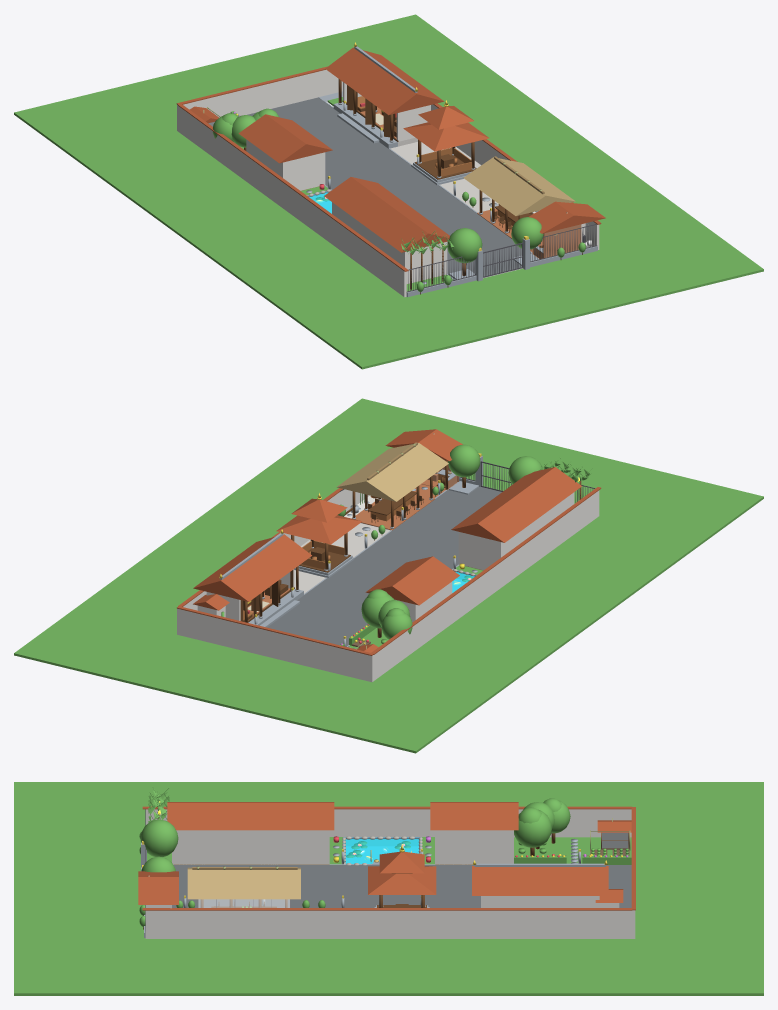
Rendered from khu_nha_dong_ho.glb.
3 renders of one model, top to bottom at view 1: azimuth 30°, elevation 25°; view 2: azimuth 150°, elevation 25°; view 3: azimuth 270°, elevation 25°, orthographic. The views are drawn at different scales.
Parts seen in each view (by area): view 1: Co_Ngoai_Nam, Co_Ngoai_Tay, Co_Ngoai_Bac, Co_Ngoai_Dong, DuongChinh_8m, TuongRao_Trai, Mai_Nha3Gian, TuongRao_Sau, Mai_NhaAn_MaiLa, Mai_NhaKhach3_6x4, Mai_NhaKhach1_6x4, Mai_NhaKhach2_6x4 (+13 smaller); view 2: Co_Ngoai_Bac, Co_Ngoai_Tay, Co_Ngoai_Nam, Co_Ngoai_Dong, DuongChinh_8m, TuongRao_Trai, TuongRao_Sau, Mai_Nha3Gian, Mai_NhaAn_MaiLa, Mai_NhaKhach3_6x4, Mai_NhaKhach2_6x4, Mai_NhaKhach1_6x4 (+10 smaller); view 3: Co_Ngoai_Dong, Co_Ngoai_Bac, Co_Ngoai_Nam, TuongRao_Phai, Co_Ngoai_Tay, DuongChinh_8m, TuongRao_Trai, Mai_Nha3Gian, Mai_NhaAn_MaiLa, Mai_NhaKhach3_6x4, Mai_NhaKhach1_6x4, Mai_NhaKhach2_6x4 (+27 smaller).
Part boxes in pixels (<box>): Co_Ngoai_Nam: <box>301,224,763,369</box>; Co_Ngoai_Tay: <box>75,132,403,324</box>; Co_Ngoai_Bac: <box>14,14,476,158</box>; Co_Ngoai_Dong: <box>409,59,702,249</box>; DuongChinh_8m: <box>247,97,530,279</box>; TuongRao_Trai: <box>178,106,406,297</box>; Mai_Nha3Gian: <box>325,47,444,115</box>; TuongRao_Sau: <box>177,69,342,131</box>; Mai_NhaAn_MaiLa: <box>463,157,575,215</box>; Mai_NhaKhach3_6x4: <box>238,114,332,163</box>; Mai_NhaKhach1_6x4: <box>361,203,449,252</box>; Mai_NhaKhach2_6x4: <box>324,177,413,222</box>; Co_Ngoai_Bac: <box>14,608,476,753</box>; Co_Ngoai_Tay: <box>374,516,702,708</box>; Co_Ngoai_Nam: <box>301,398,763,542</box>; Co_Ngoai_Dong: <box>75,443,371,633</box>; DuongChinh_8m: <box>267,486,501,646</box>; TuongRao_Trai: <box>373,490,599,680</box>; TuongRao_Sau: <box>177,608,373,682</box>; Mai_Nha3Gian: <box>193,534,311,601</box>; Mai_NhaAn_MaiLa: <box>336,443,448,501</box>; Mai_NhaKhach3_6x4: <box>365,556,459,605</box>; Mai_NhaKhach2_6x4: <box>451,494,540,542</box>; Mai_NhaKhach1_6x4: <box>492,467,581,515</box>; Co_Ngoai_Dong: <box>145,939,632,995</box>; Co_Ngoai_Bac: <box>632,782,763,995</box>; Co_Ngoai_Nam: <box>14,782,145,995</box>; TuongRao_Phai: <box>145,910,632,938</box>; Co_Ngoai_Tay: <box>145,782,632,806</box>; DuongChinh_8m: <box>172,865,631,907</box>; TuongRao_Trai: <box>146,809,631,837</box>; Mai_Nha3Gian: <box>472,866,608,895</box>; Mai_NhaAn_MaiLa: <box>187,867,300,899</box>; Mai_NhaKhach3_6x4: <box>430,802,518,830</box>; Mai_NhaKhach1_6x4: <box>167,802,255,830</box>; Mai_NhaKhach2_6x4: <box>246,802,334,830</box>.
Bounding box in the file's own units: 38 × 7.15 × 57.
